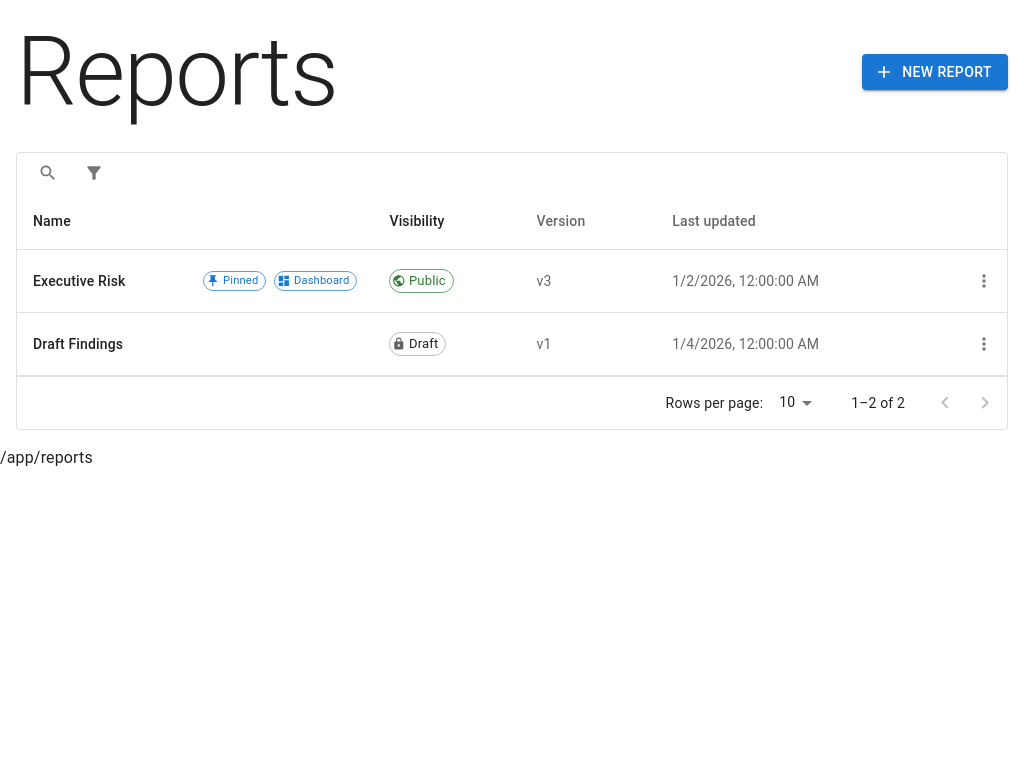
Scenario: ReportsList › shows an error dialog when unpublishing is rejected
Click the button named "More actions" in the row of "Executive Risk": click(984, 281) x1=969 y1=266 x2=999 y2=296
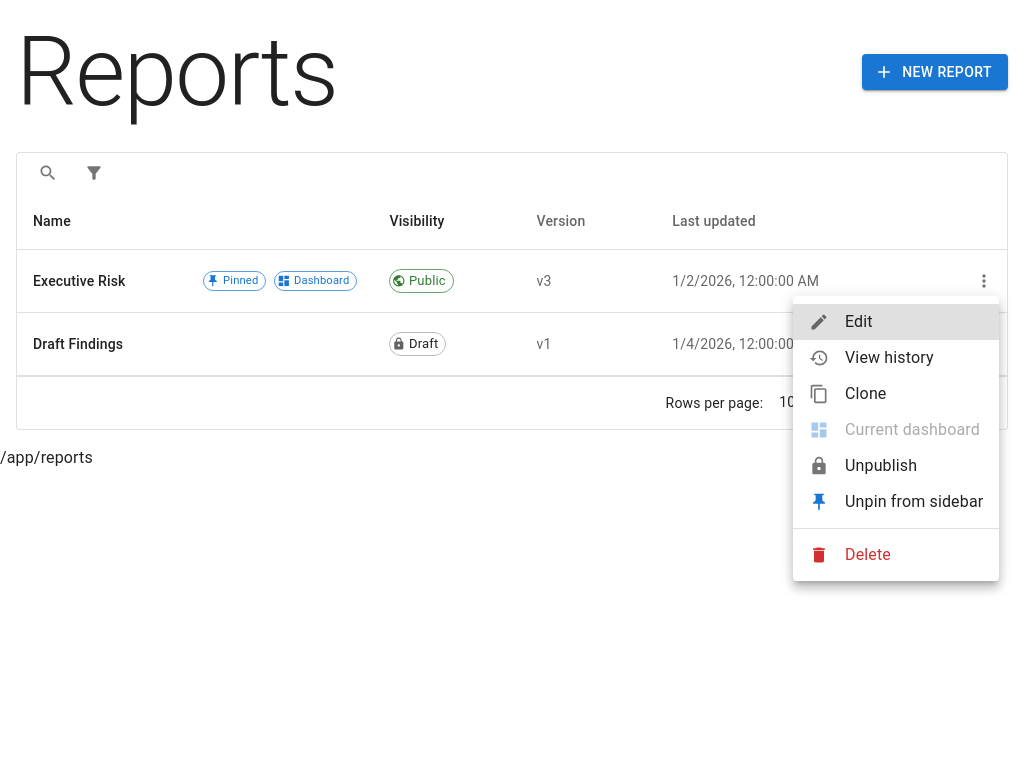
Click the menu item "Unpublish": click(863, 466) x1=809 y1=456 x2=917 y2=476
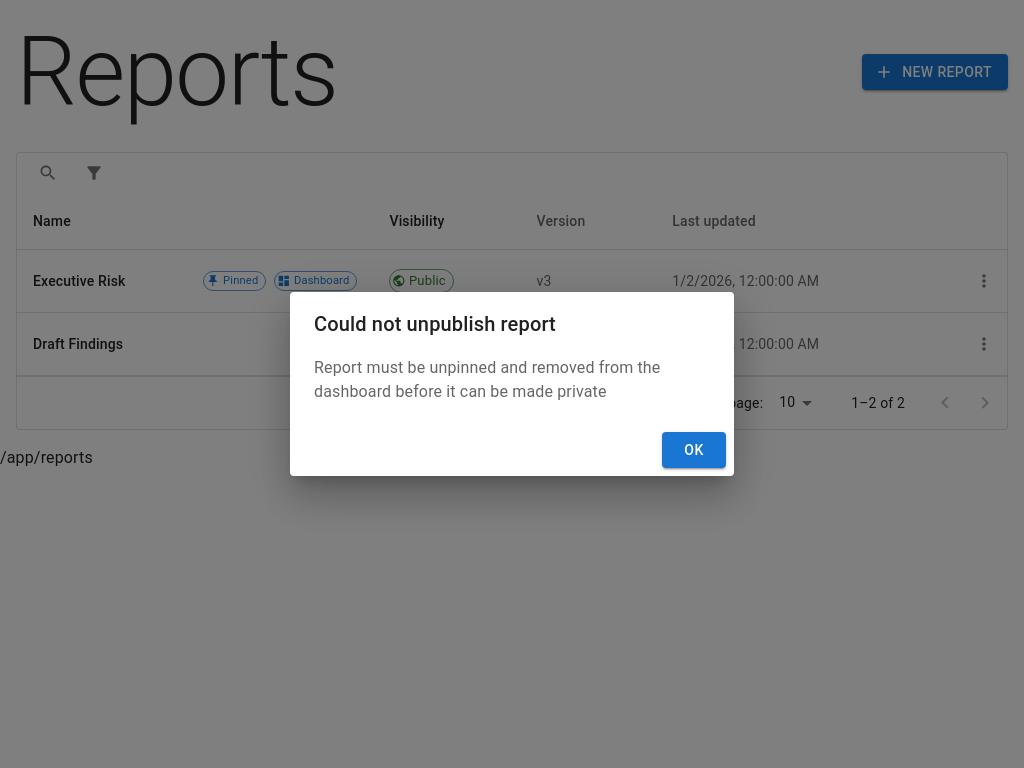
Now the dialog "Could not unpublish report" is shown, box x1=290 y1=292 x2=734 y2=476
Now the text "Report must be unpinned and removed from the dashboard before it can be made private" is shown, box x1=314 y1=358 x2=660 y2=401
